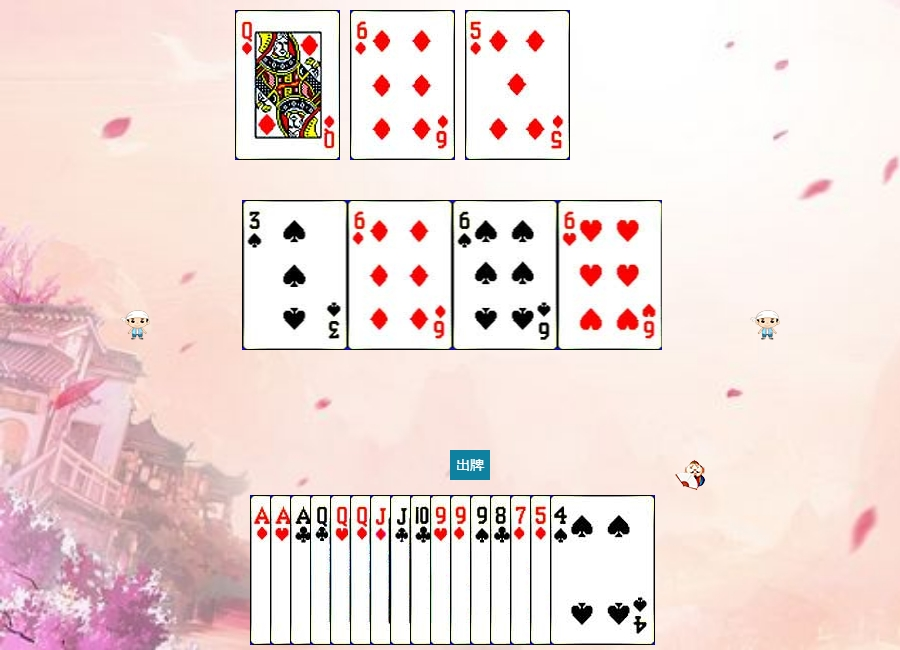10~2: (410, 495, 515, 645)
11~1: (370, 495, 475, 645)
11~2: (390, 495, 495, 645)
12~1: (235, 10, 340, 160), (350, 495, 455, 645)
12~2: (310, 495, 415, 645)
12~3: (330, 495, 435, 645)
14~1: (250, 495, 355, 645)
14~2: (290, 495, 395, 645)
14~3: (270, 495, 375, 645)
3~4: (243, 200, 348, 350)
4~4: (550, 495, 655, 645)
5~1: (465, 10, 570, 160), (530, 495, 635, 645)
6~1: (350, 10, 455, 160), (348, 200, 453, 350)
6~3: (558, 200, 663, 350)
6~4: (453, 200, 558, 350)
7~1: (510, 495, 615, 645)
8~2: (490, 495, 595, 645)
9~1: (450, 495, 555, 645)
9~3: (430, 495, 535, 645)
9~4: (470, 495, 575, 645)
